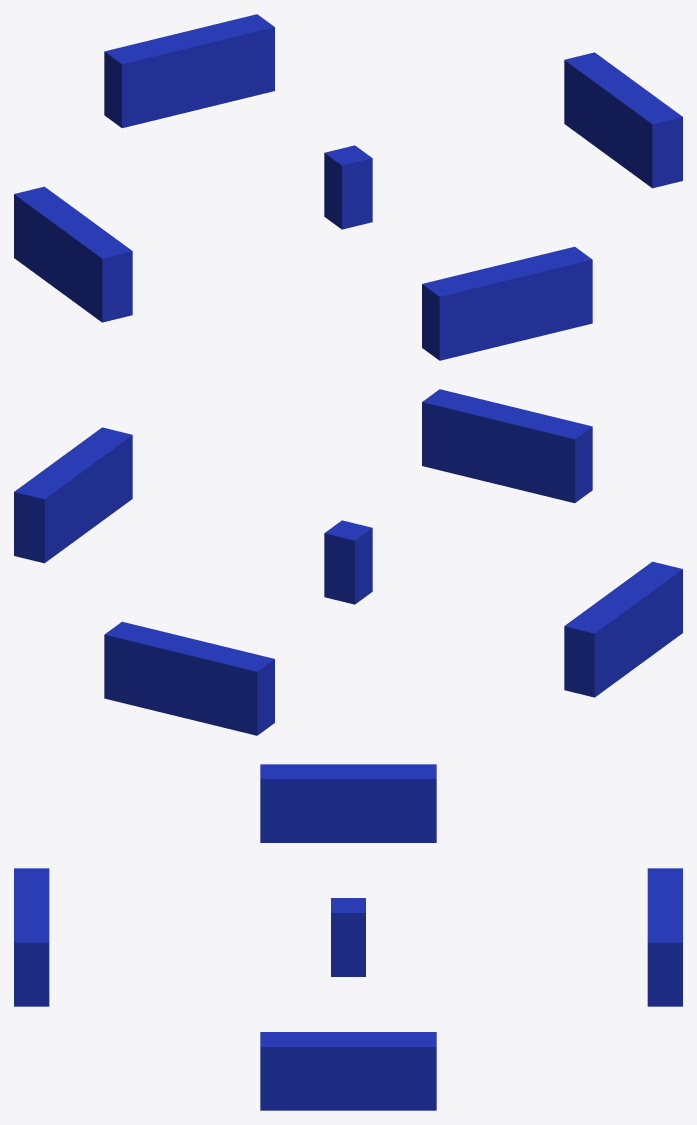
File: Anzeigekreisblau1.obj
The picture shows the model from 3 angles, top to bottom: view 1: azimuth 30°, elevation 25°; view 2: azimuth 150°, elevation 25°; view 3: azimuth 270°, elevation 25°; orthographic projection.
Size of the model in its own units: 1.9 by 0.2 by 1.9.
1 material, 1 textured.
